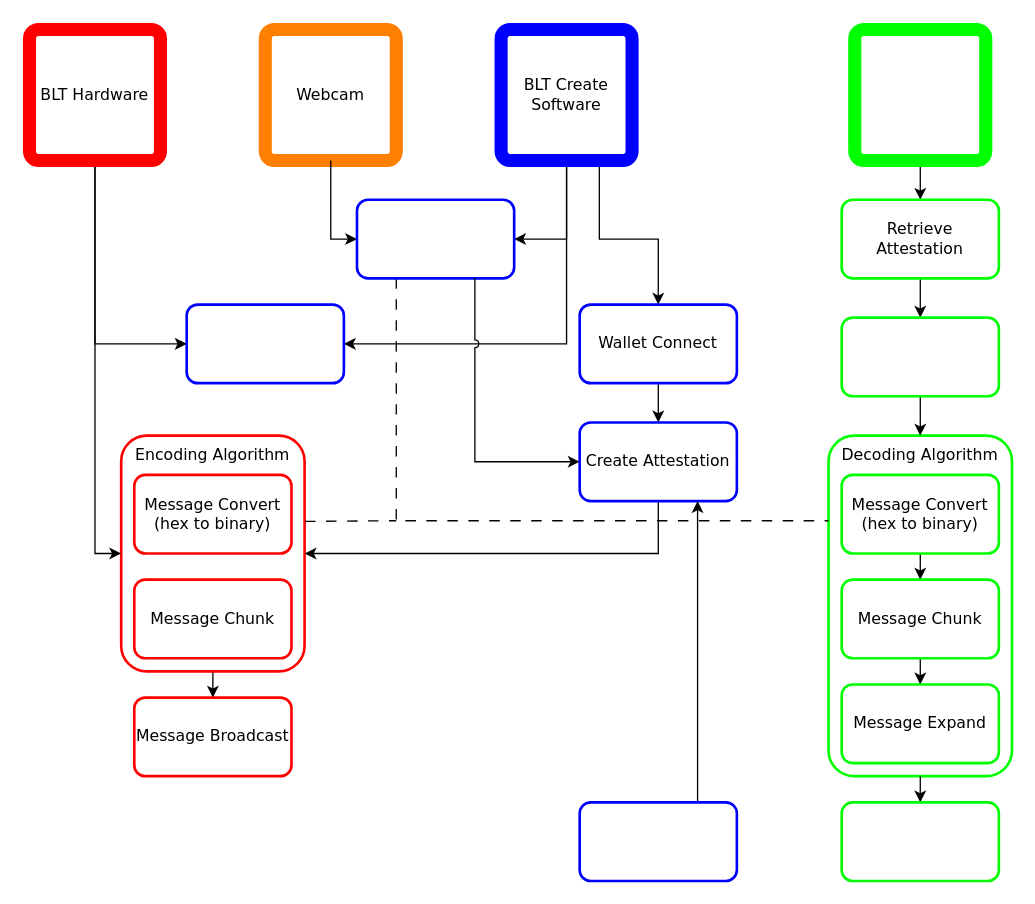
Image size: 1035x904. Some labels were removed from this diagram. Each missing label, with the centre of its shape:
"BLT Config" belongs at (x=435, y=238).
"BLT Verify Software" belongs at (x=920, y=94).
"Close Live-Stream" belongs at (x=658, y=841).
"Connect BLT" belongs at (x=265, y=343).
"Parse Config" belongs at (x=920, y=356).
"Verification" belongs at (x=920, y=841).
